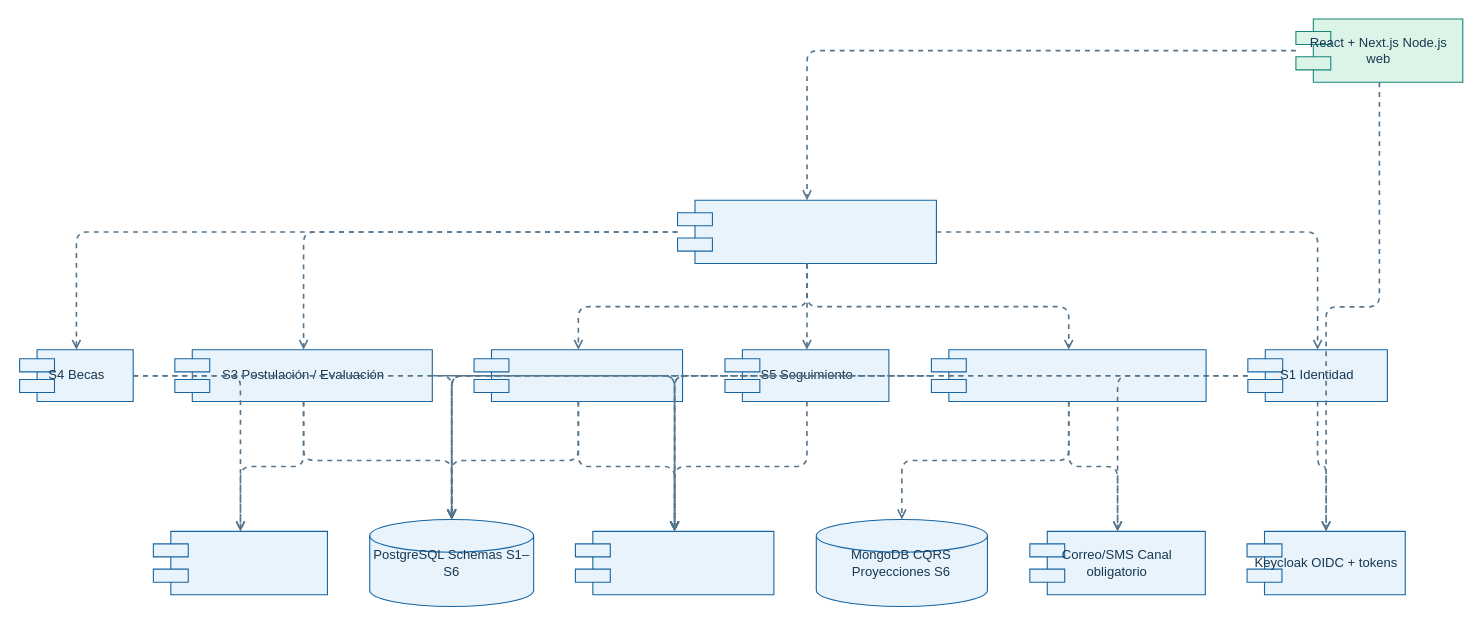
Some shapes in this 1481 by 626 pixel diagram are drawn without their labels. Each missing label, with the centre of its shape:
"Firebase Storage Binarios" goes at point 239,562.
"RabbitMQ Eventos integración" goes at point 674,562.
"S2 Catálogo / Fondos" goes at point 578,375.
"S6 Comunicación / Reportería" goes at point 1068,375.
"YARP Gateway HTTP/WebSockets" goes at point 806,231.
